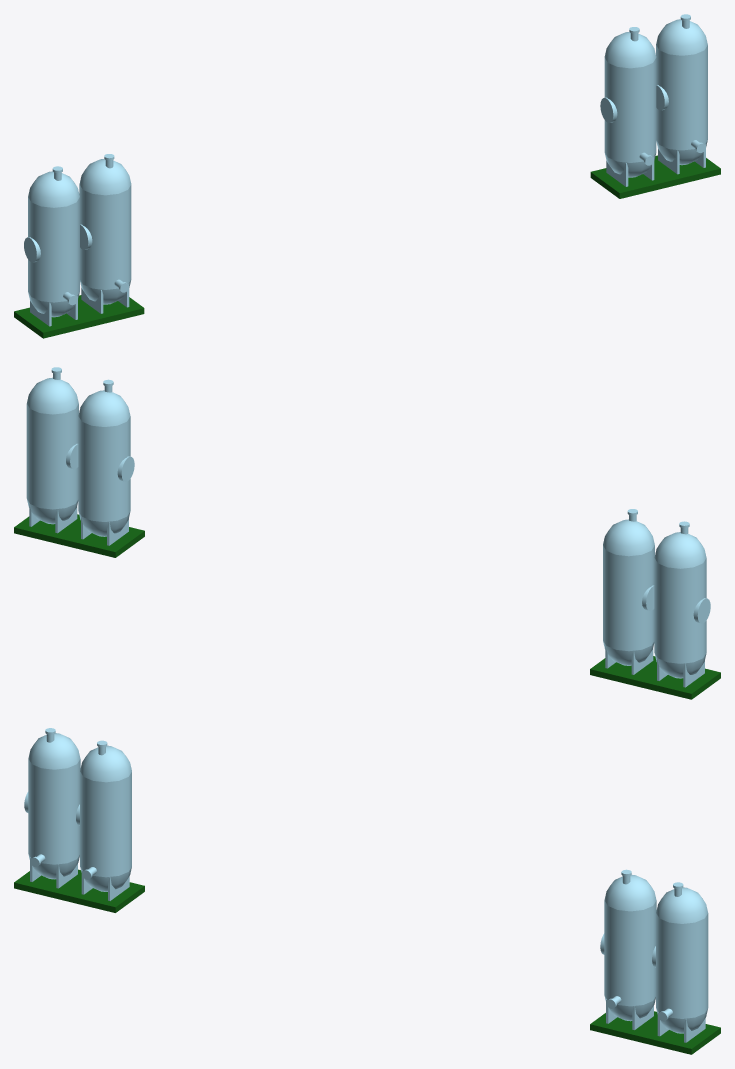
File: water_treatment_set.gltf
3 renders of one model, top to bottom at view 1: azimuth 30°, elevation 25°; view 2: azimuth 150°, elevation 25°; view 3: azimuth 330°, elevation 25°, orthographic.
Parts seen in each view (by area): view 1: OilTank003, OilTank008, OilTank007, OilTank004, Box439, Box566; view 2: OilTank007, OilTank004, OilTank003, OilTank008, Box566, Box439; view 3: OilTank004, OilTank008, OilTank003, OilTank007, Box566, Box439.
Part boxes in pixels (bbox=[...]): OilTank003: bbox=[604, 32, 656, 177]; OilTank008: bbox=[79, 159, 131, 304]; OilTank007: bbox=[28, 171, 79, 317]; OilTank004: bbox=[656, 19, 707, 165]; Box439: bbox=[590, 155, 720, 198]; Box566: bbox=[14, 295, 144, 338]; OilTank007: bbox=[654, 532, 706, 678]; OilTank004: bbox=[26, 377, 78, 524]; OilTank003: bbox=[78, 390, 130, 536]; OilTank008: bbox=[603, 519, 654, 665]; Box566: bbox=[590, 656, 720, 699]; Box439: bbox=[14, 514, 144, 557]; OilTank004: bbox=[656, 887, 708, 1033]; OilTank008: bbox=[80, 745, 131, 891]; OilTank003: bbox=[604, 875, 656, 1021]; OilTank007: bbox=[28, 733, 80, 879]; Box566: bbox=[14, 869, 144, 912]; Box439: bbox=[590, 1011, 720, 1054].
Size of the model in its own units: 59.13 by 13.02 by 5.29.
2 materials, 2 textured.
